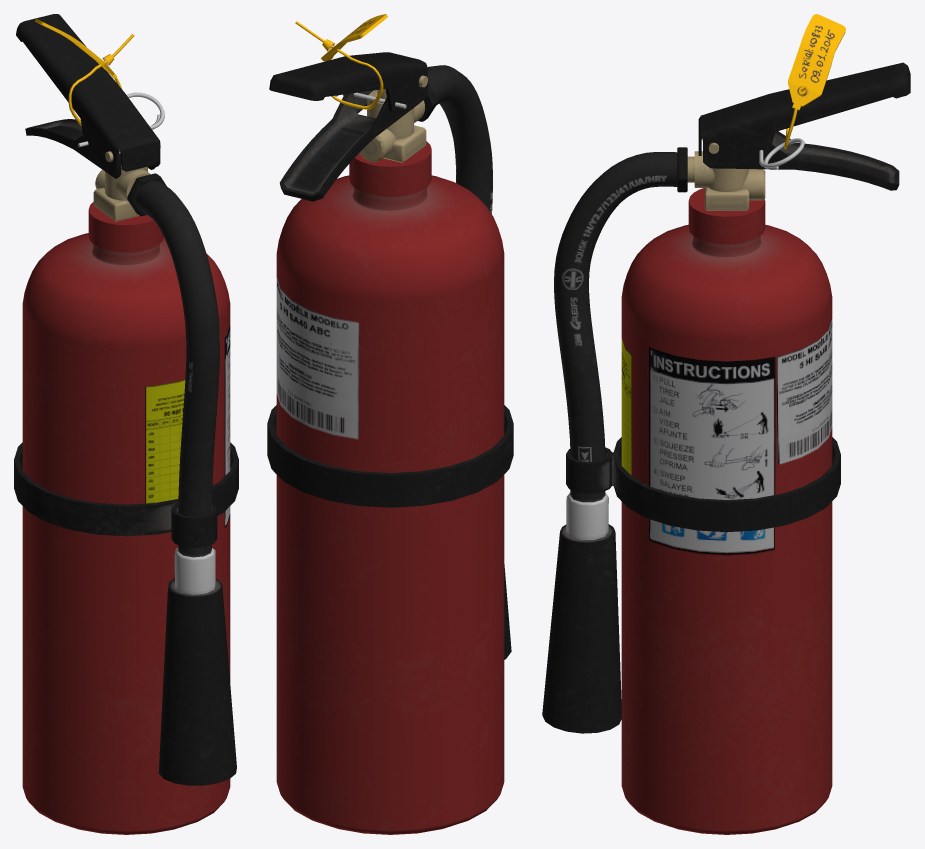
The model's file is SM_FireExtinguisher_02.FBX.
3 renders of one model, left to right at view 1: azimuth 30°, elevation 25°; view 2: azimuth 150°, elevation 25°; view 3: azimuth 270°, elevation 25°, orthographic. The views are drawn at different scales.
Visible parts, largest first — view 1: SM_FireExtinguisher_02_LOD0; view 2: SM_FireExtinguisher_02_LOD0; view 3: SM_FireExtinguisher_02_LOD0.
Boxes of the visible parts, x1,y1,x2,y2 form: SM_FireExtinguisher_02_LOD0: (14, 14, 238, 834); SM_FireExtinguisher_02_LOD0: (267, 14, 513, 834); SM_FireExtinguisher_02_LOD0: (542, 14, 910, 834).
Size of the model in its own units: 18.28 by 29.58 by 67.36.
